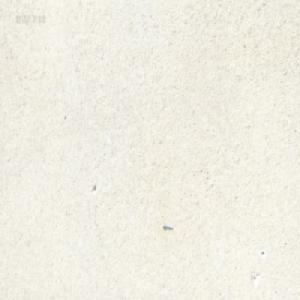Nail: (162, 223, 173, 230)
